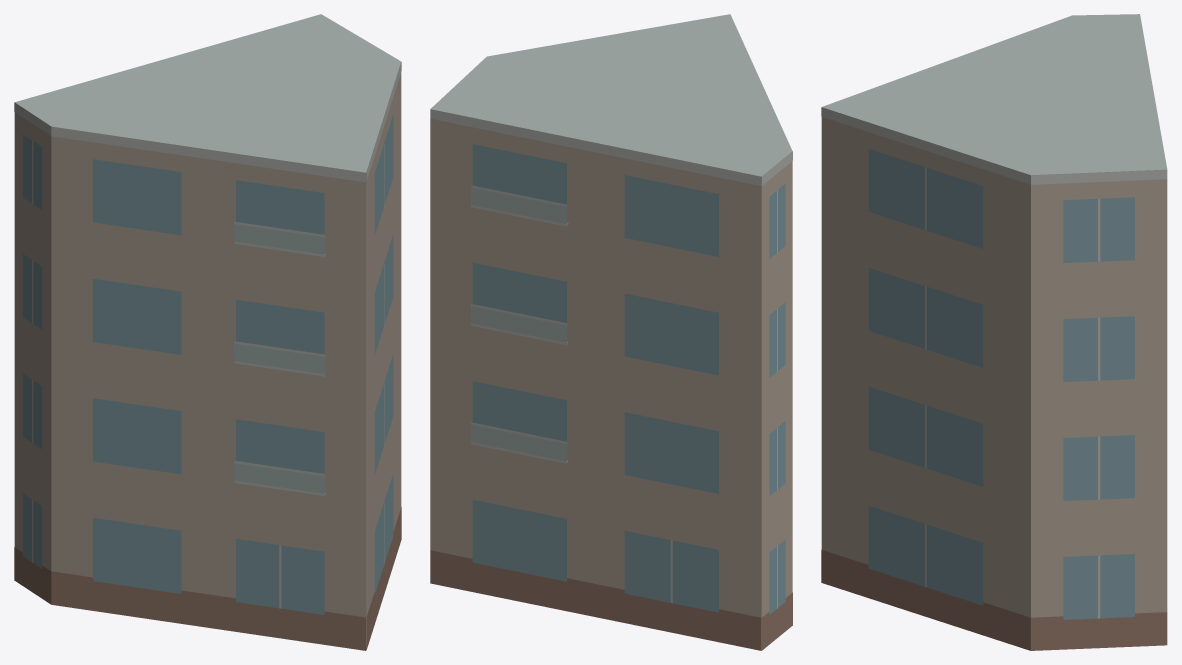
Rendered from survey-upis-32504542.glb.
3 views of the same model, side by side, from view 1: azimuth 30°, elevation 25°; view 2: azimuth 150°, elevation 25°; view 3: azimuth 270°, elevation 25° (orthographic).
Visible parts, largest first — view 1: survey-upis-32504542.tmp; view 2: survey-upis-32504542.tmp; view 3: survey-upis-32504542.tmp.
Part boxes in pixels (left/top/right/bottom): survey-upis-32504542.tmp: left=14, top=14, right=401, bottom=650; survey-upis-32504542.tmp: left=430, top=14, right=792, bottom=650; survey-upis-32504542.tmp: left=821, top=14, right=1167, bottom=650.
Size of the model in its own units: 8.8 by 12.1 by 7.98.
